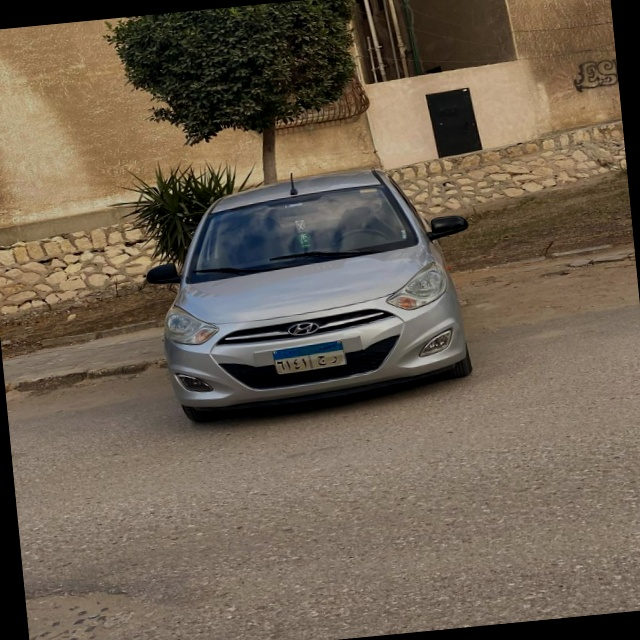License Plate: (271, 339, 350, 376)
